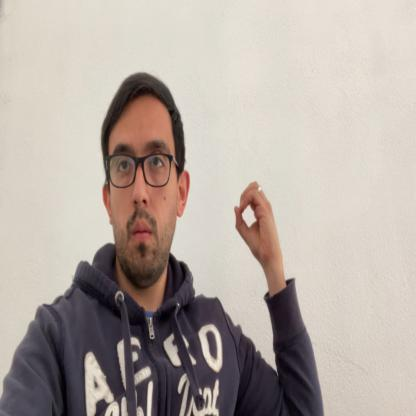O: (234, 178, 276, 268)
